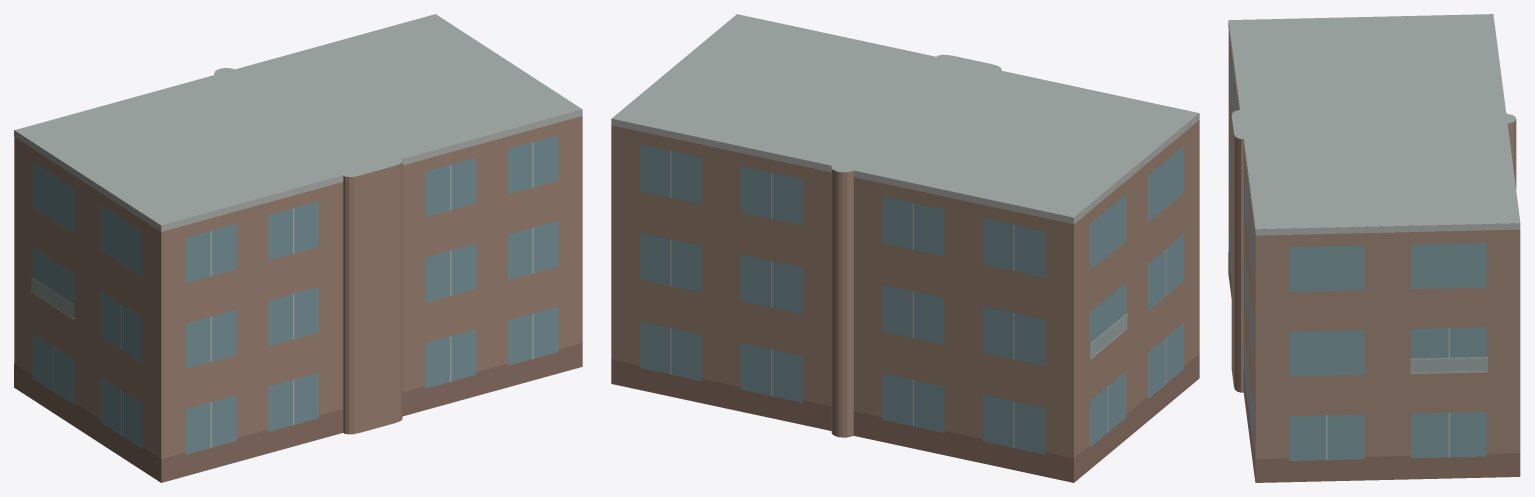
The model's file is survey-upis-32737530.glb.
3 views of the same model, side by side, from view 1: azimuth 30°, elevation 25°; view 2: azimuth 150°, elevation 25°; view 3: azimuth 270°, elevation 25° (orthographic). The views are drawn at different scales.
Visible parts, largest first — view 1: survey-upis-32737530.tmp; view 2: survey-upis-32737530.tmp; view 3: survey-upis-32737530.tmp.
Boxes of the visible parts, x1=… form: survey-upis-32737530.tmp: x1=14, y1=14, x2=582, y2=482; survey-upis-32737530.tmp: x1=611, y1=14, x2=1199, y2=482; survey-upis-32737530.tmp: x1=1228, y1=14, x2=1520, y2=482.
Bounding box in the file's own units: 17.67 × 9.7 × 10.13.
